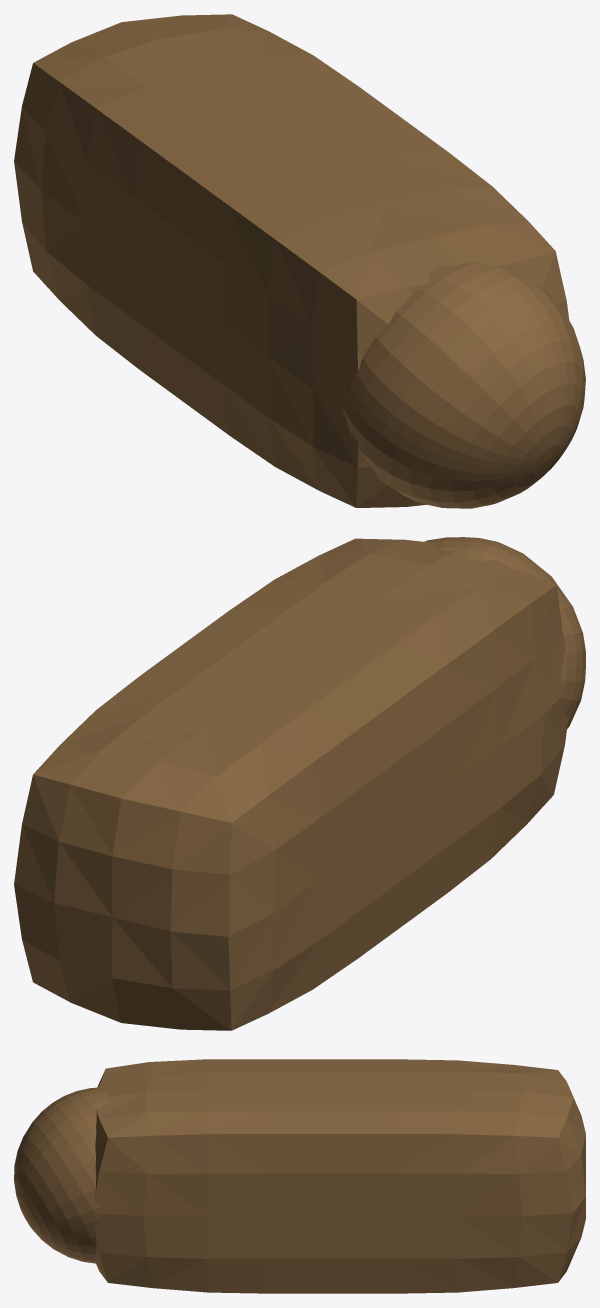
File: LeftFingerJoint11y_joint_visu.dae
3 renders of one model, top to bottom at view 1: azimuth 30°, elevation 25°; view 2: azimuth 150°, elevation 25°; view 3: azimuth 270°, elevation 25°, orthographic. The views are drawn at different scales.
Parts seen in each view (by area): view 1: node; view 2: node; view 3: node.
Boxes of the visible parts, box(x1,y1,x2,y2) form: node: box(14, 14, 585, 508); node: box(14, 537, 585, 1030); node: box(14, 1059, 585, 1293).
Bounding box in the file's own units: 0.00864 × 0.00864 × 0.0263.
